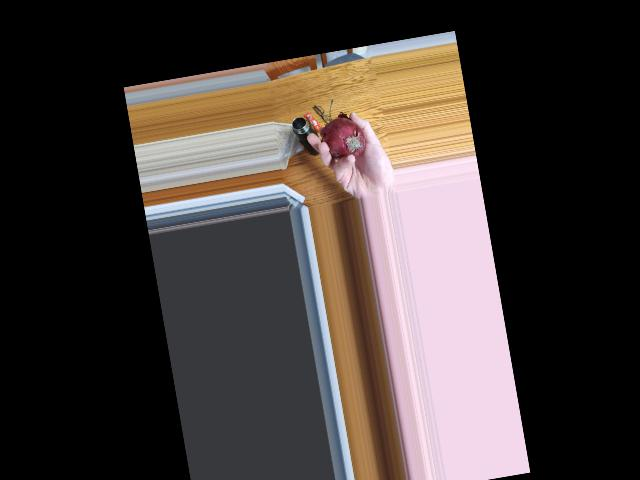onion: (324, 117, 371, 167)
